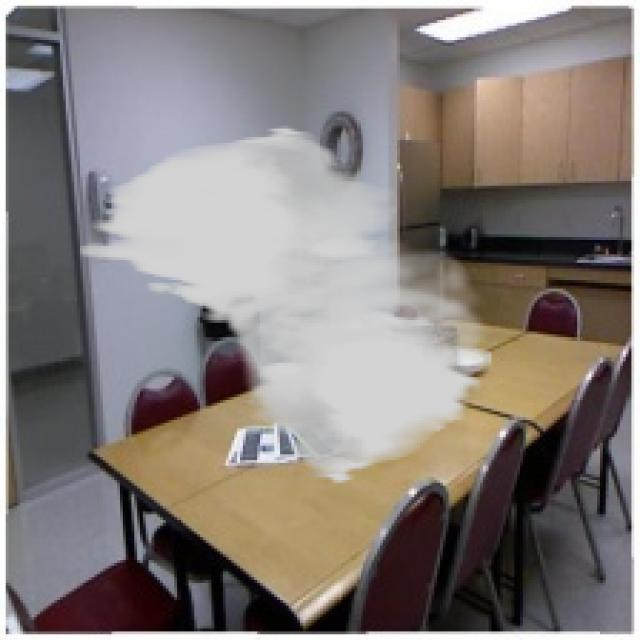Smoke: (80, 126, 494, 486)
